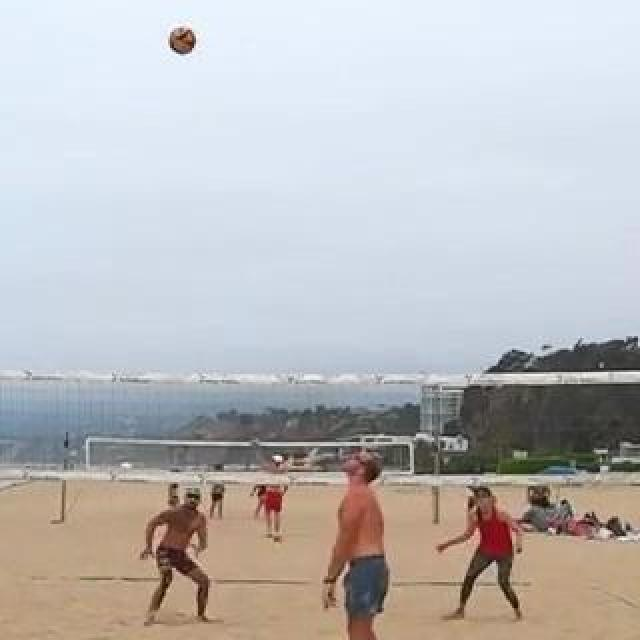volleyball: (168, 27, 196, 55)
